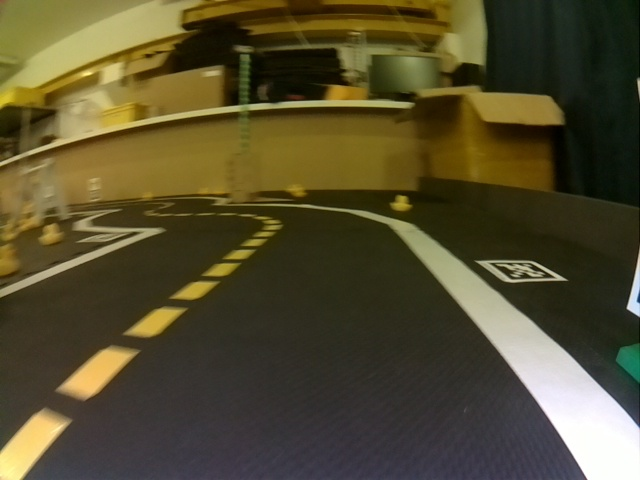Duckie: (1, 245, 19, 273), (43, 226, 63, 242), (391, 195, 408, 212), (290, 185, 303, 197)
QR code: (481, 260, 565, 283), (84, 231, 131, 243)
